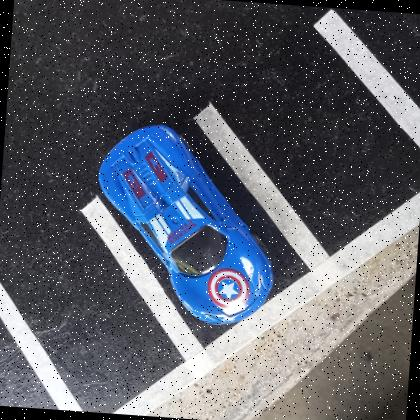Car: (97, 122, 274, 325)
